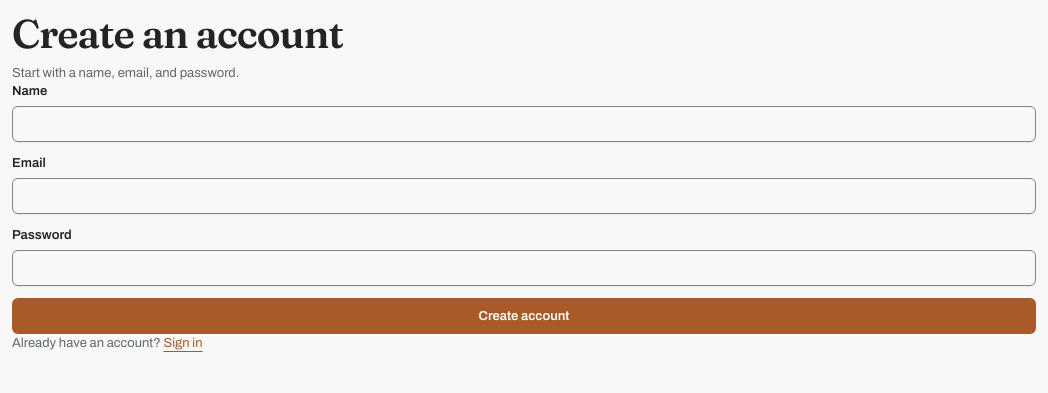
Test: RegisterView › field-level error messages › shows email field error under email input when USER_ALREADY_EXISTS_USE_ANOTHER_EMAIL is returned
Type "Ayşe" into the field labelled "Name".
click(524, 124); type("Ayşe")  # box [12, 106, 1036, 142]
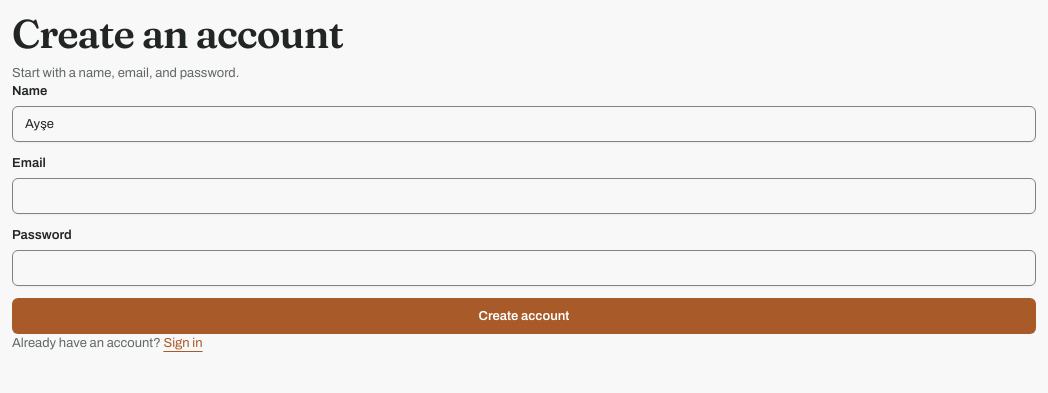
Type "ayse@example.com" into the field labelled "Email".
click(524, 196); type("ayse@example.com")  # box [12, 178, 1036, 214]
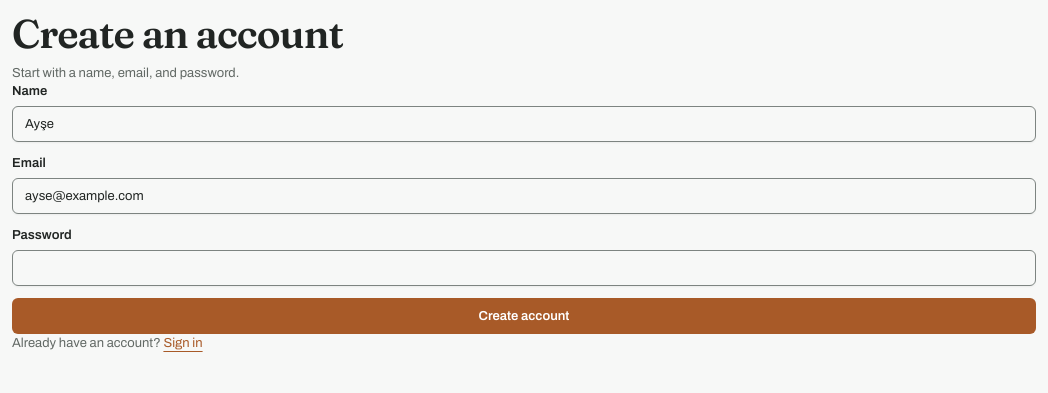
Type "correct-horse" into the password field labelled "Password".
click(524, 268); type("correct-horse")  # box [12, 250, 1036, 286]
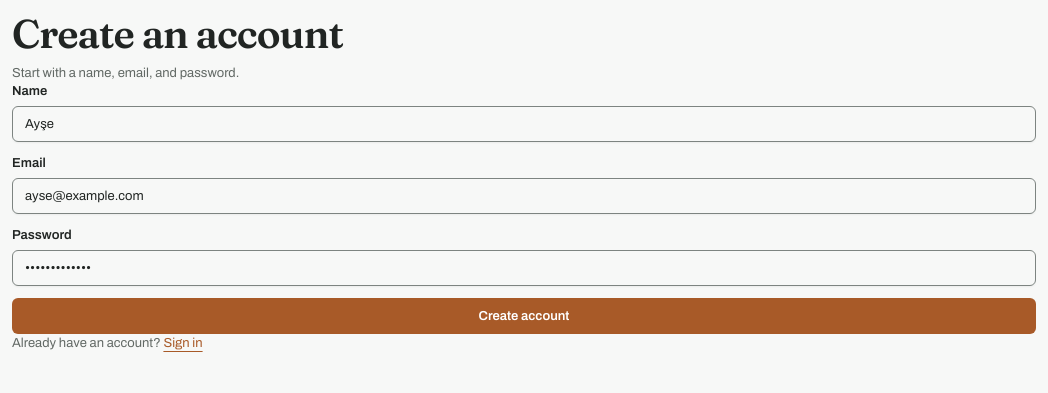
Click the button "Create account".
click(524, 316)  # box [12, 298, 1036, 334]
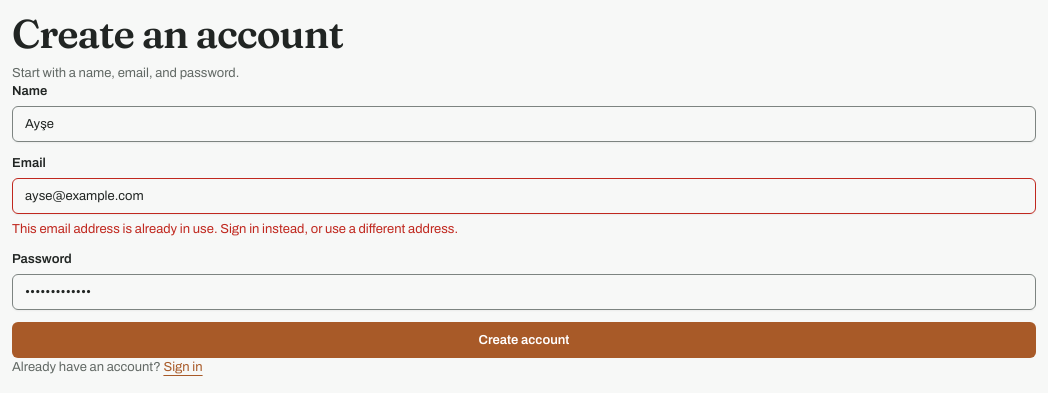
expect the text "This email address is already in use. Sign in instead, or use a different address." is shown: met, box [12, 222, 458, 236]
